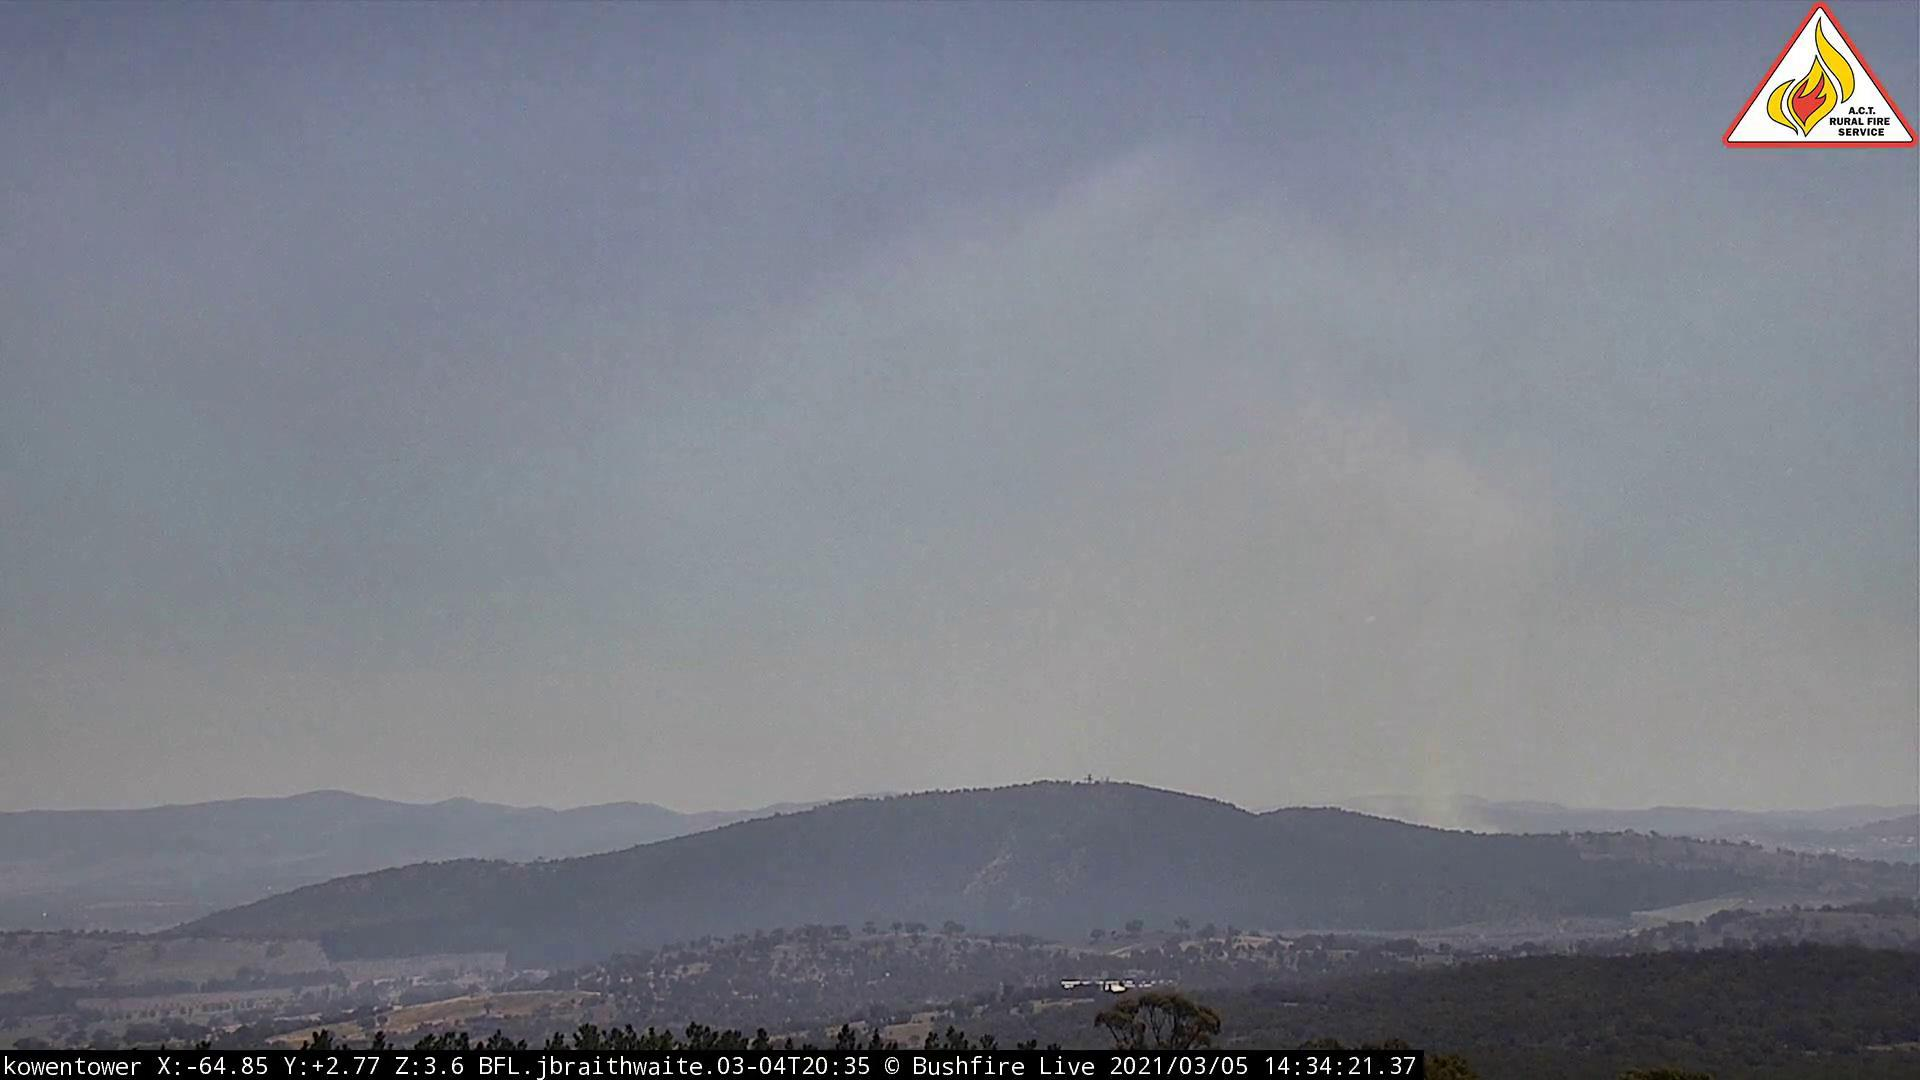Smoke: (1221, 401, 1586, 839)
